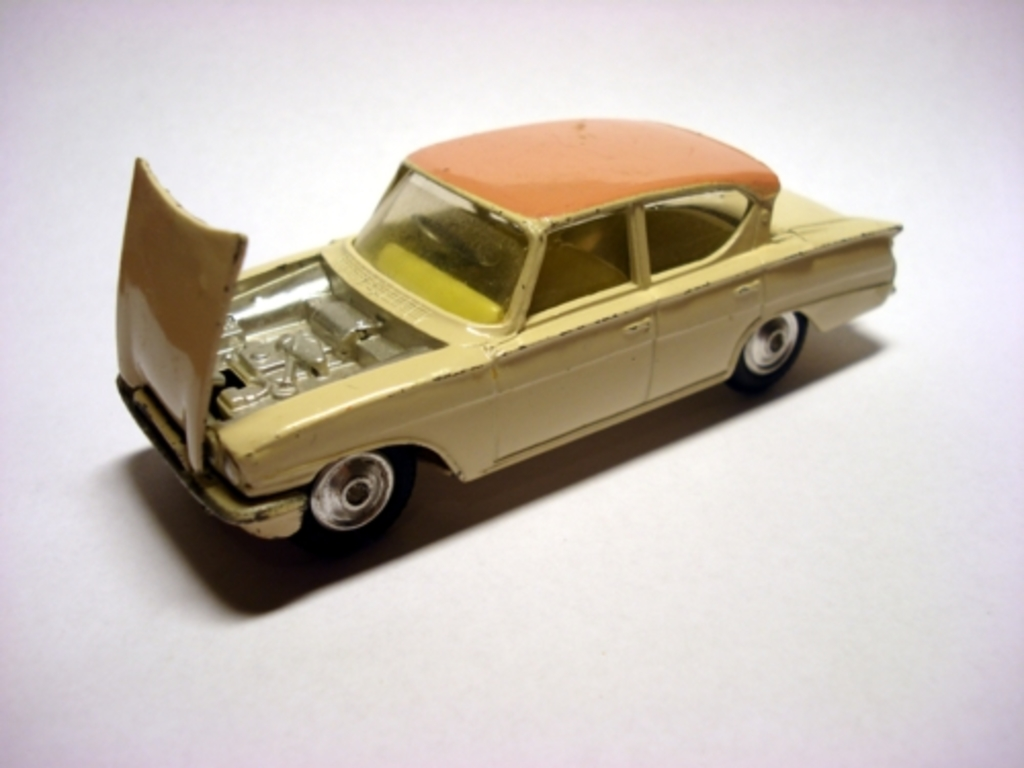Car: (102, 108, 903, 544)
